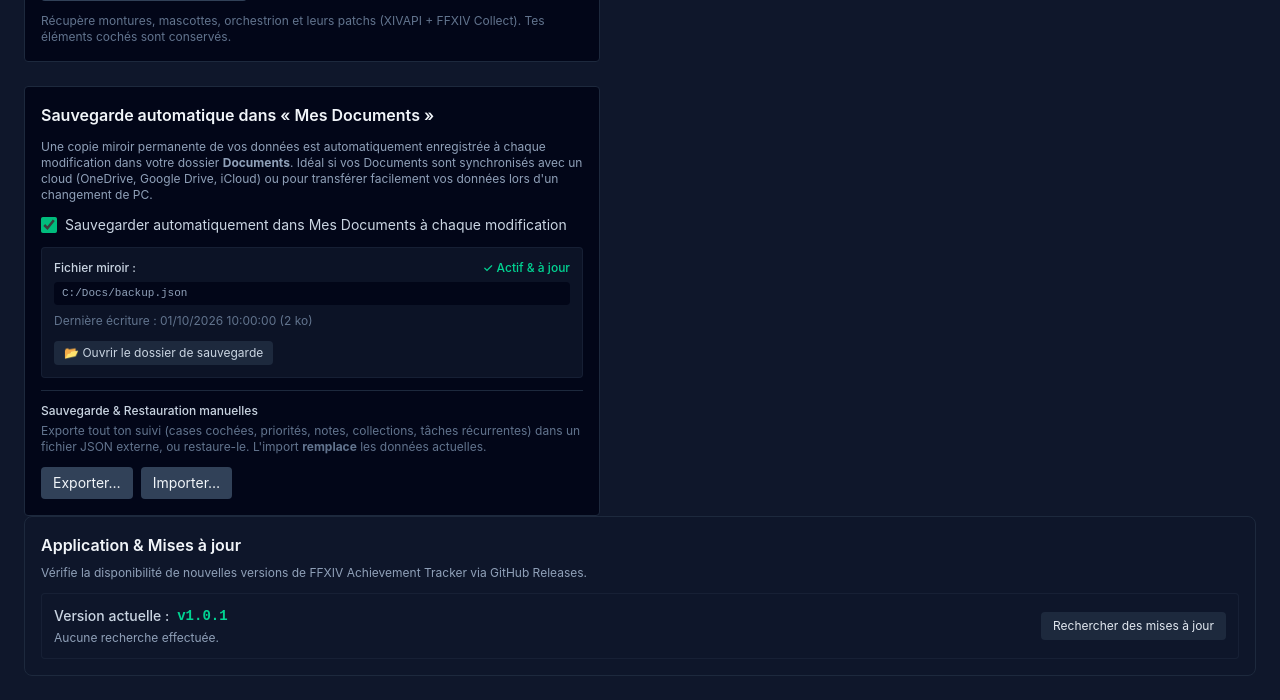
Scenario: BackupSection › reloads everything after an import, and reports a failed one
(page scrolled)
What coordinates should you click on to do the following:
click the button "Importer…"
I would click on:
 (186, 483)
Its box is x1=141 y1=467 x2=232 y2=499.
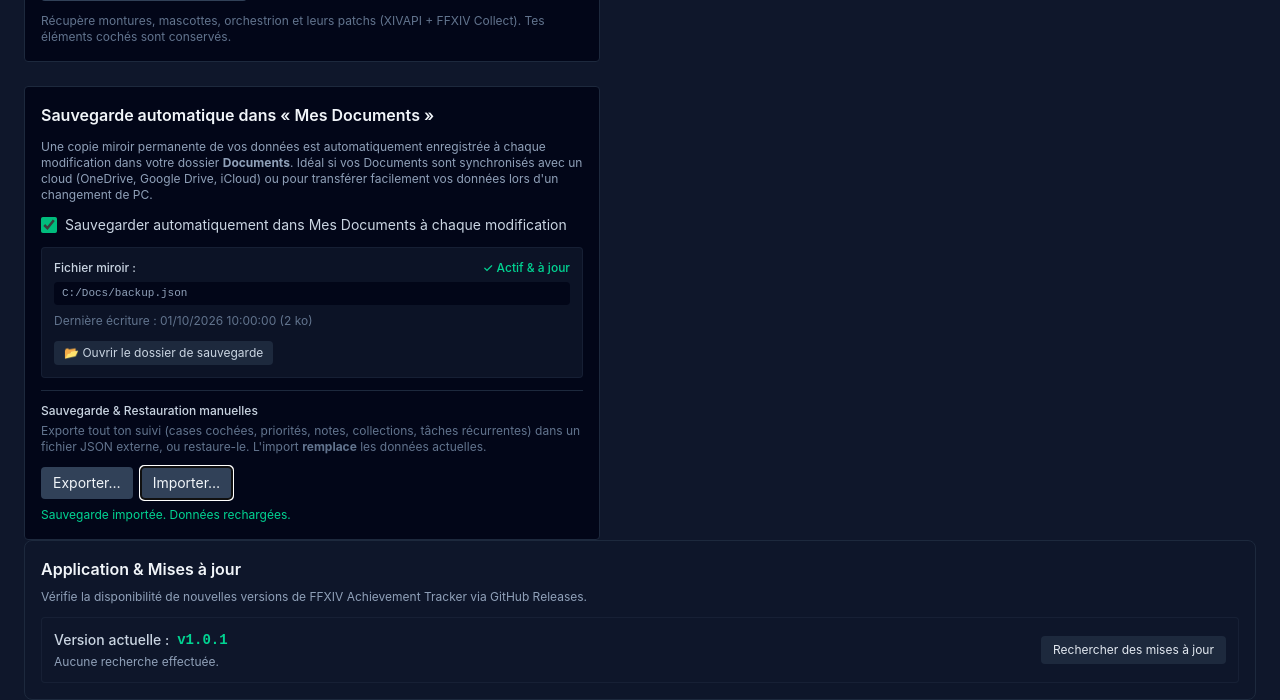
Now the text "Sauvegarde importée. Données rechargées." is shown, box x1=41 y1=507 x2=291 y2=522
What coordinates should you click on to do the following:
click the button "Importer…"
I would click on:
 (186, 483)
Its box is x1=141 y1=467 x2=232 y2=499.
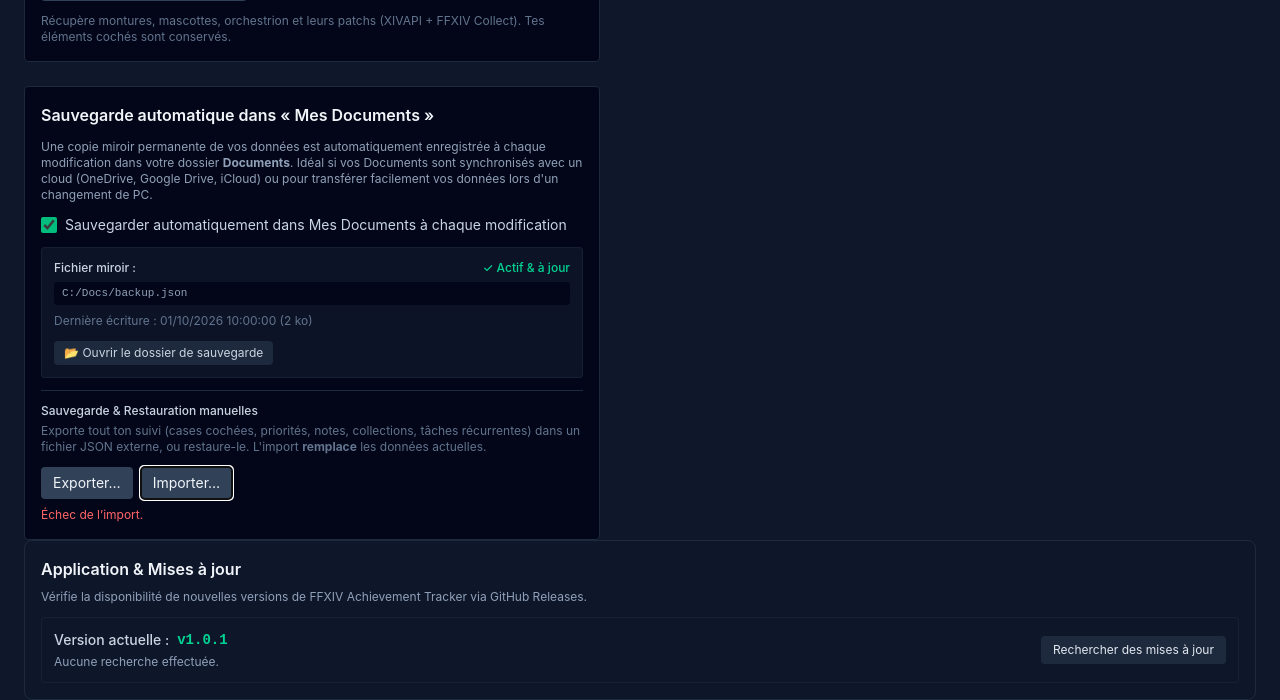
Now the text "Échec de l’import." is shown, box x1=41 y1=507 x2=143 y2=522
